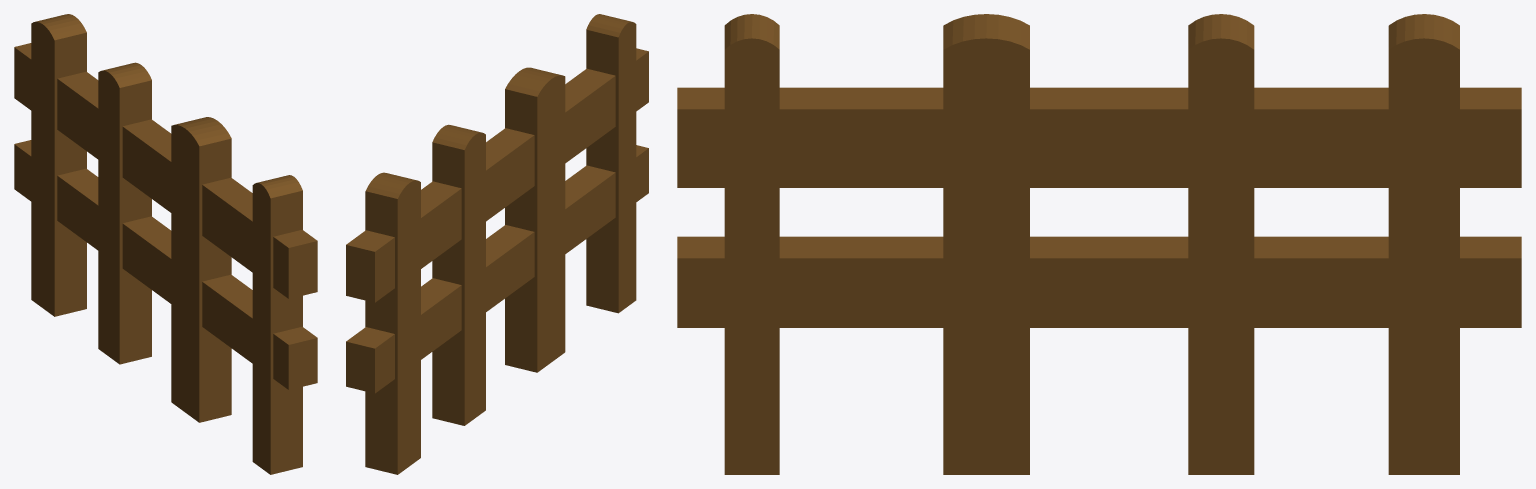
Rendered from Fence.fbx.
3 renders of one model, left to right at view 1: azimuth 30°, elevation 25°; view 2: azimuth 150°, elevation 25°; view 3: azimuth 270°, elevation 25°, orthographic. The views are drawn at different scales.
Visible parts, largest first — view 1: Cerca; view 2: Cerca; view 3: Cerca.
Boxes of the visible parts, bbox=[...] form: Cerca: bbox=[14, 14, 317, 474]; Cerca: bbox=[346, 14, 648, 474]; Cerca: bbox=[677, 14, 1521, 474].
Bounding box in the file's own units: 24.51 × 205 × 360.
